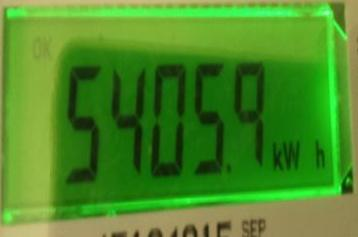.: (268, 138, 330, 171)
1: (149, 64, 189, 177)
5: (108, 61, 149, 177)
6: (63, 67, 104, 183), (190, 62, 228, 176)
:: (230, 64, 269, 170)
